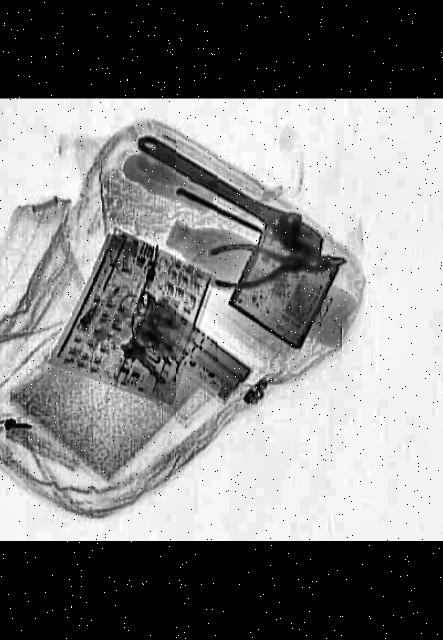Pliers: (207, 237, 346, 288)
Wrench: (124, 123, 332, 258)
